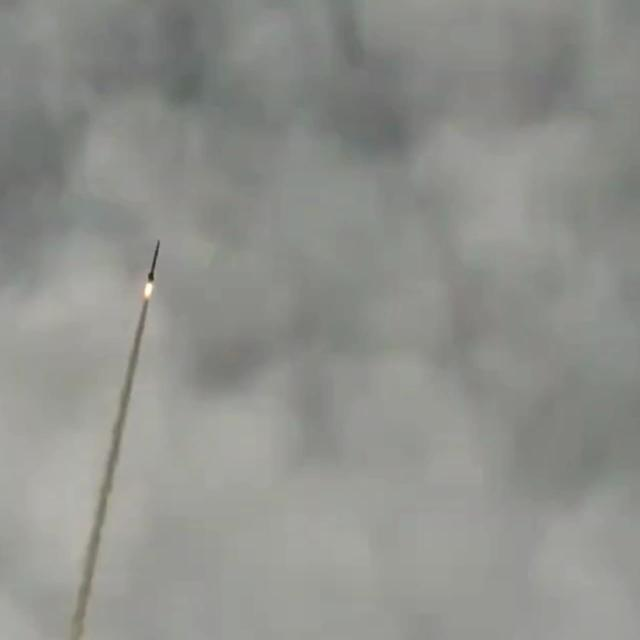smoke_trail_with_rocket: (65, 253, 159, 640)
